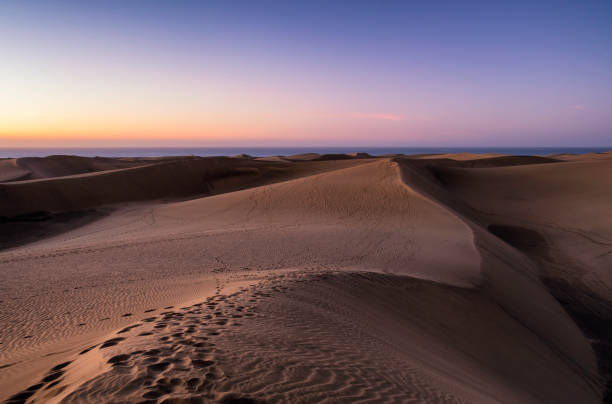human_foot_print: (10, 288, 252, 403)
